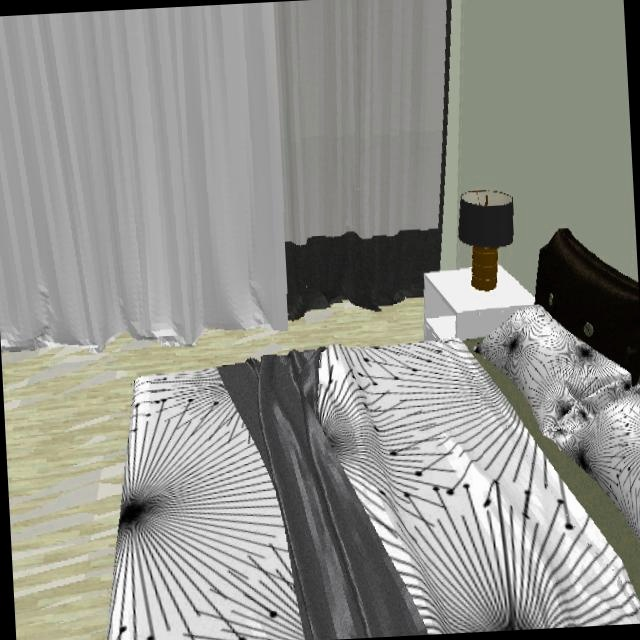bed: (113, 278, 640, 640)
lamp: (458, 190, 516, 298)
nighttable: (424, 270, 535, 340)
pillow: (478, 308, 640, 556)
